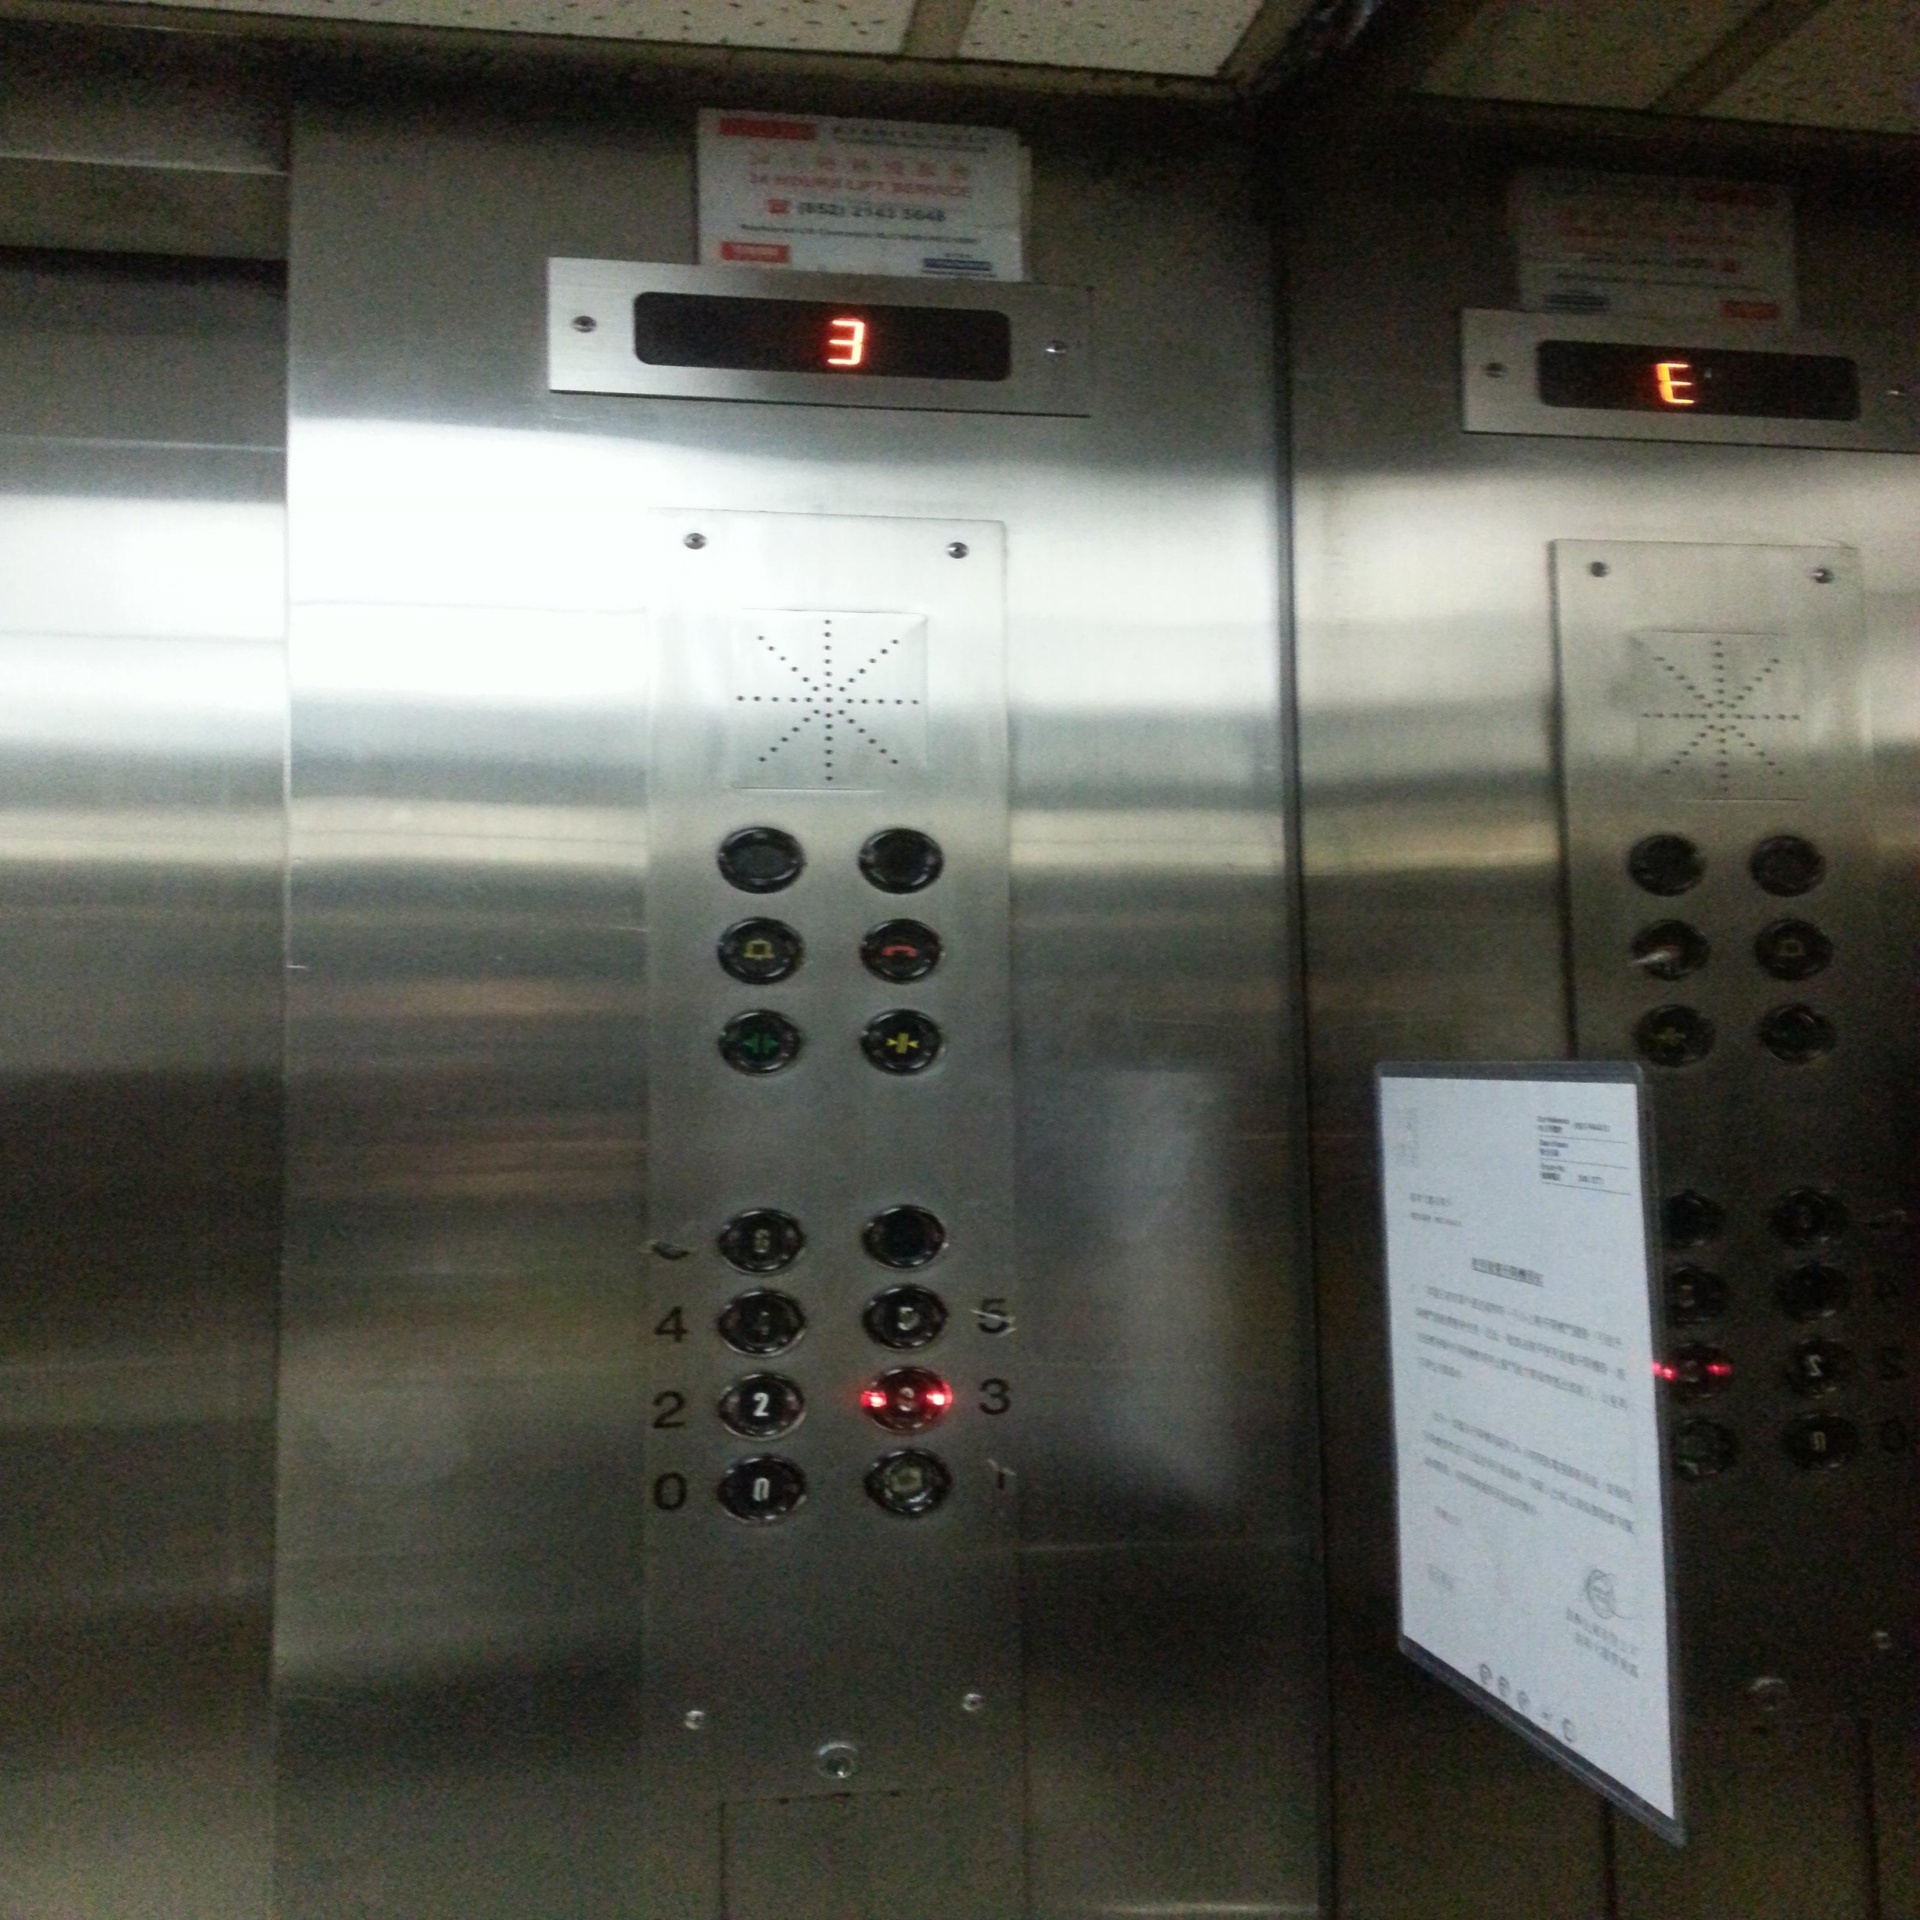0: (714, 1452, 811, 1526)
2: (714, 1370, 805, 1444)
4: (716, 1287, 809, 1357)
6: (716, 1204, 807, 1276)
alarm: (714, 913, 805, 986), (863, 1445, 953, 1519), (1748, 911, 1836, 983)
blur: (860, 1364, 955, 1435), (858, 1282, 949, 1354)
call: (858, 914, 944, 986)
close: (856, 1002, 946, 1081)
empty: (853, 825, 948, 897), (717, 823, 809, 897), (860, 1199, 948, 1271), (1742, 828, 1829, 898), (1623, 828, 1705, 900)
keyhole: (1739, 1674, 1795, 1723), (812, 1737, 865, 1783)
led: (628, 285, 1016, 389), (1526, 331, 1871, 438)
open: (716, 1006, 804, 1078)
unknown: (1779, 1333, 1857, 1401), (1778, 1255, 1855, 1324), (1771, 1183, 1848, 1252), (1637, 1000, 1714, 1069), (1781, 1407, 1860, 1473), (1756, 1000, 1834, 1067)
